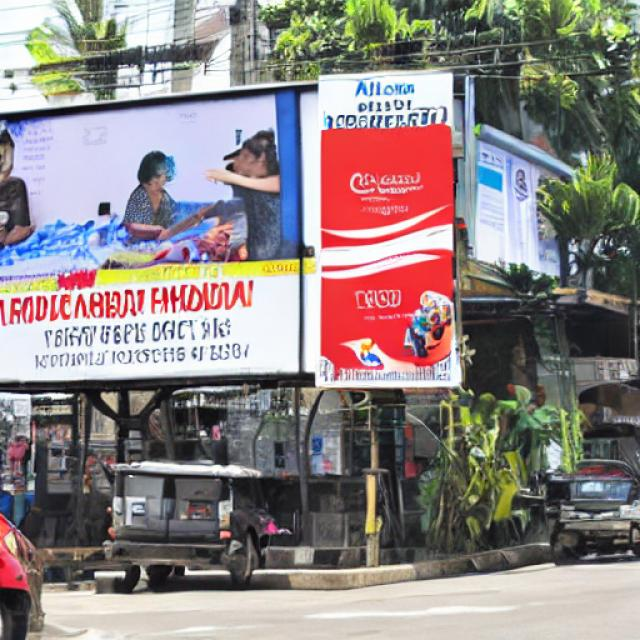Billboard: (0, 89, 310, 384), (311, 70, 458, 384)
